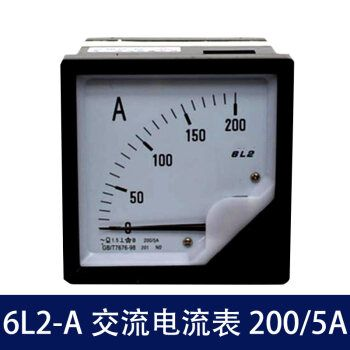pointer: (77, 74, 277, 267)
